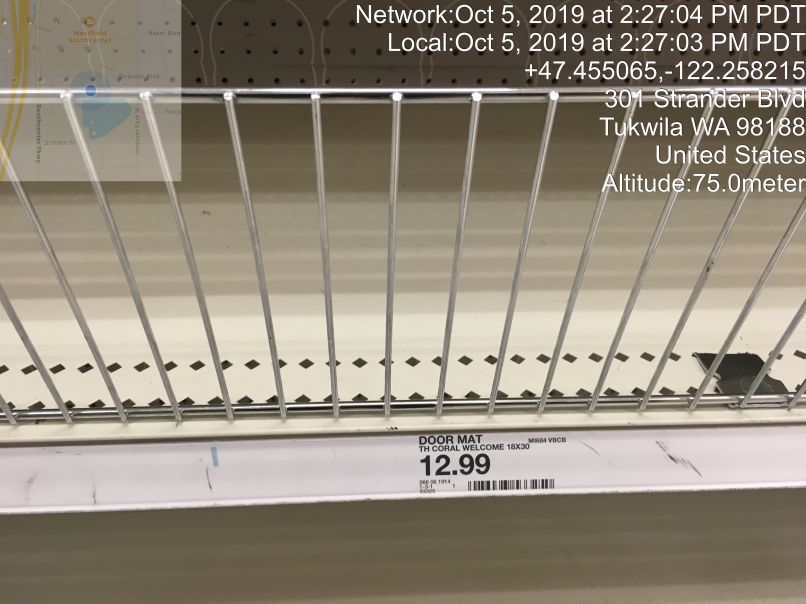Label: (409, 427, 590, 505)
Location: (593, 83, 806, 173)
Time: (349, 1, 806, 57)
Void: (23, 32, 799, 368)
